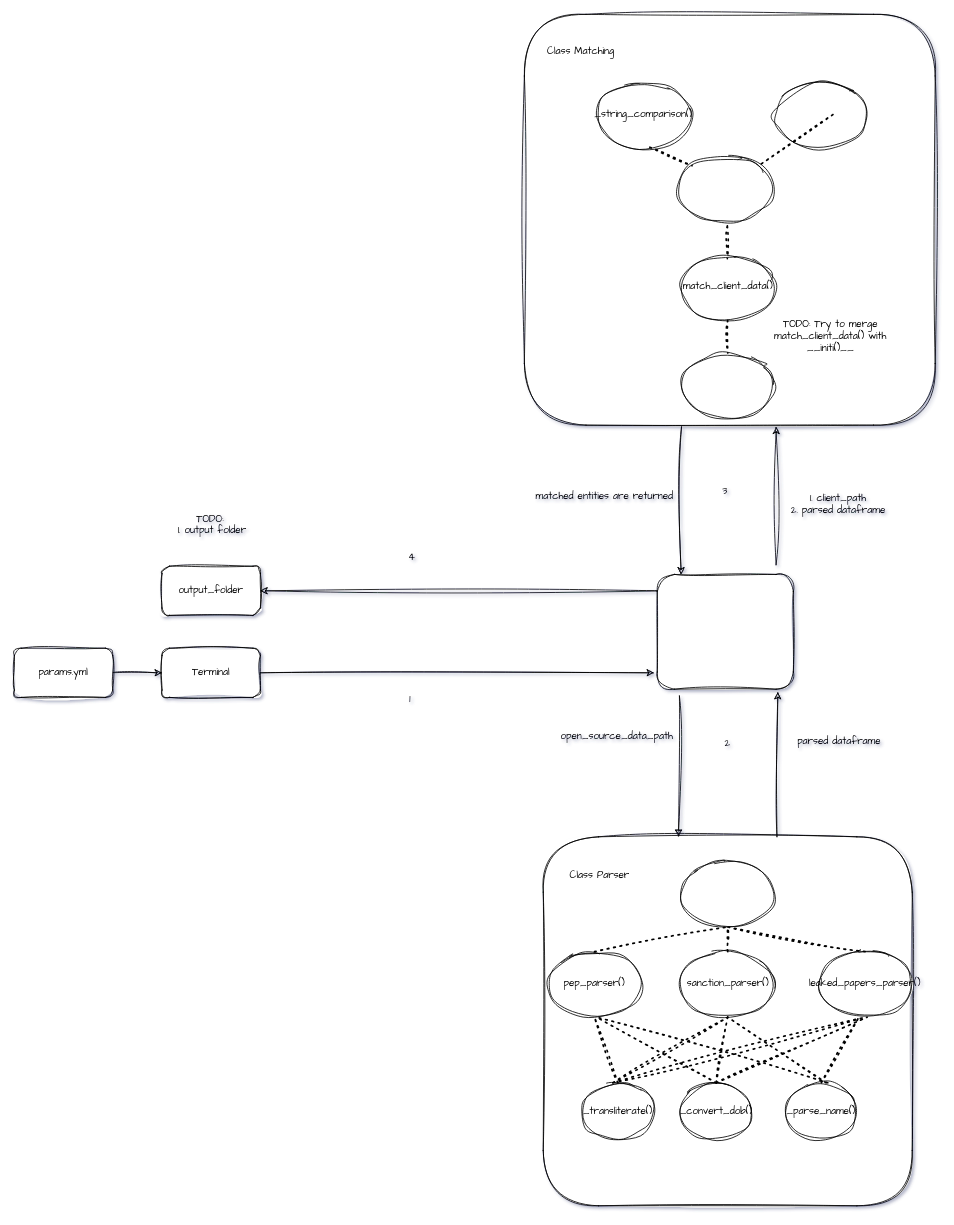
This 954x1225 diagram has some shape labels left out. Each missing label, with the centre of its shape:
"__init__()" goes at point 727,894.
"__initi__()" goes at point 727,385.
"_fuzzy_match()" goes at point 724,188.
"_same_address()" goes at point 820,115.
"main()" goes at point 724,631.
